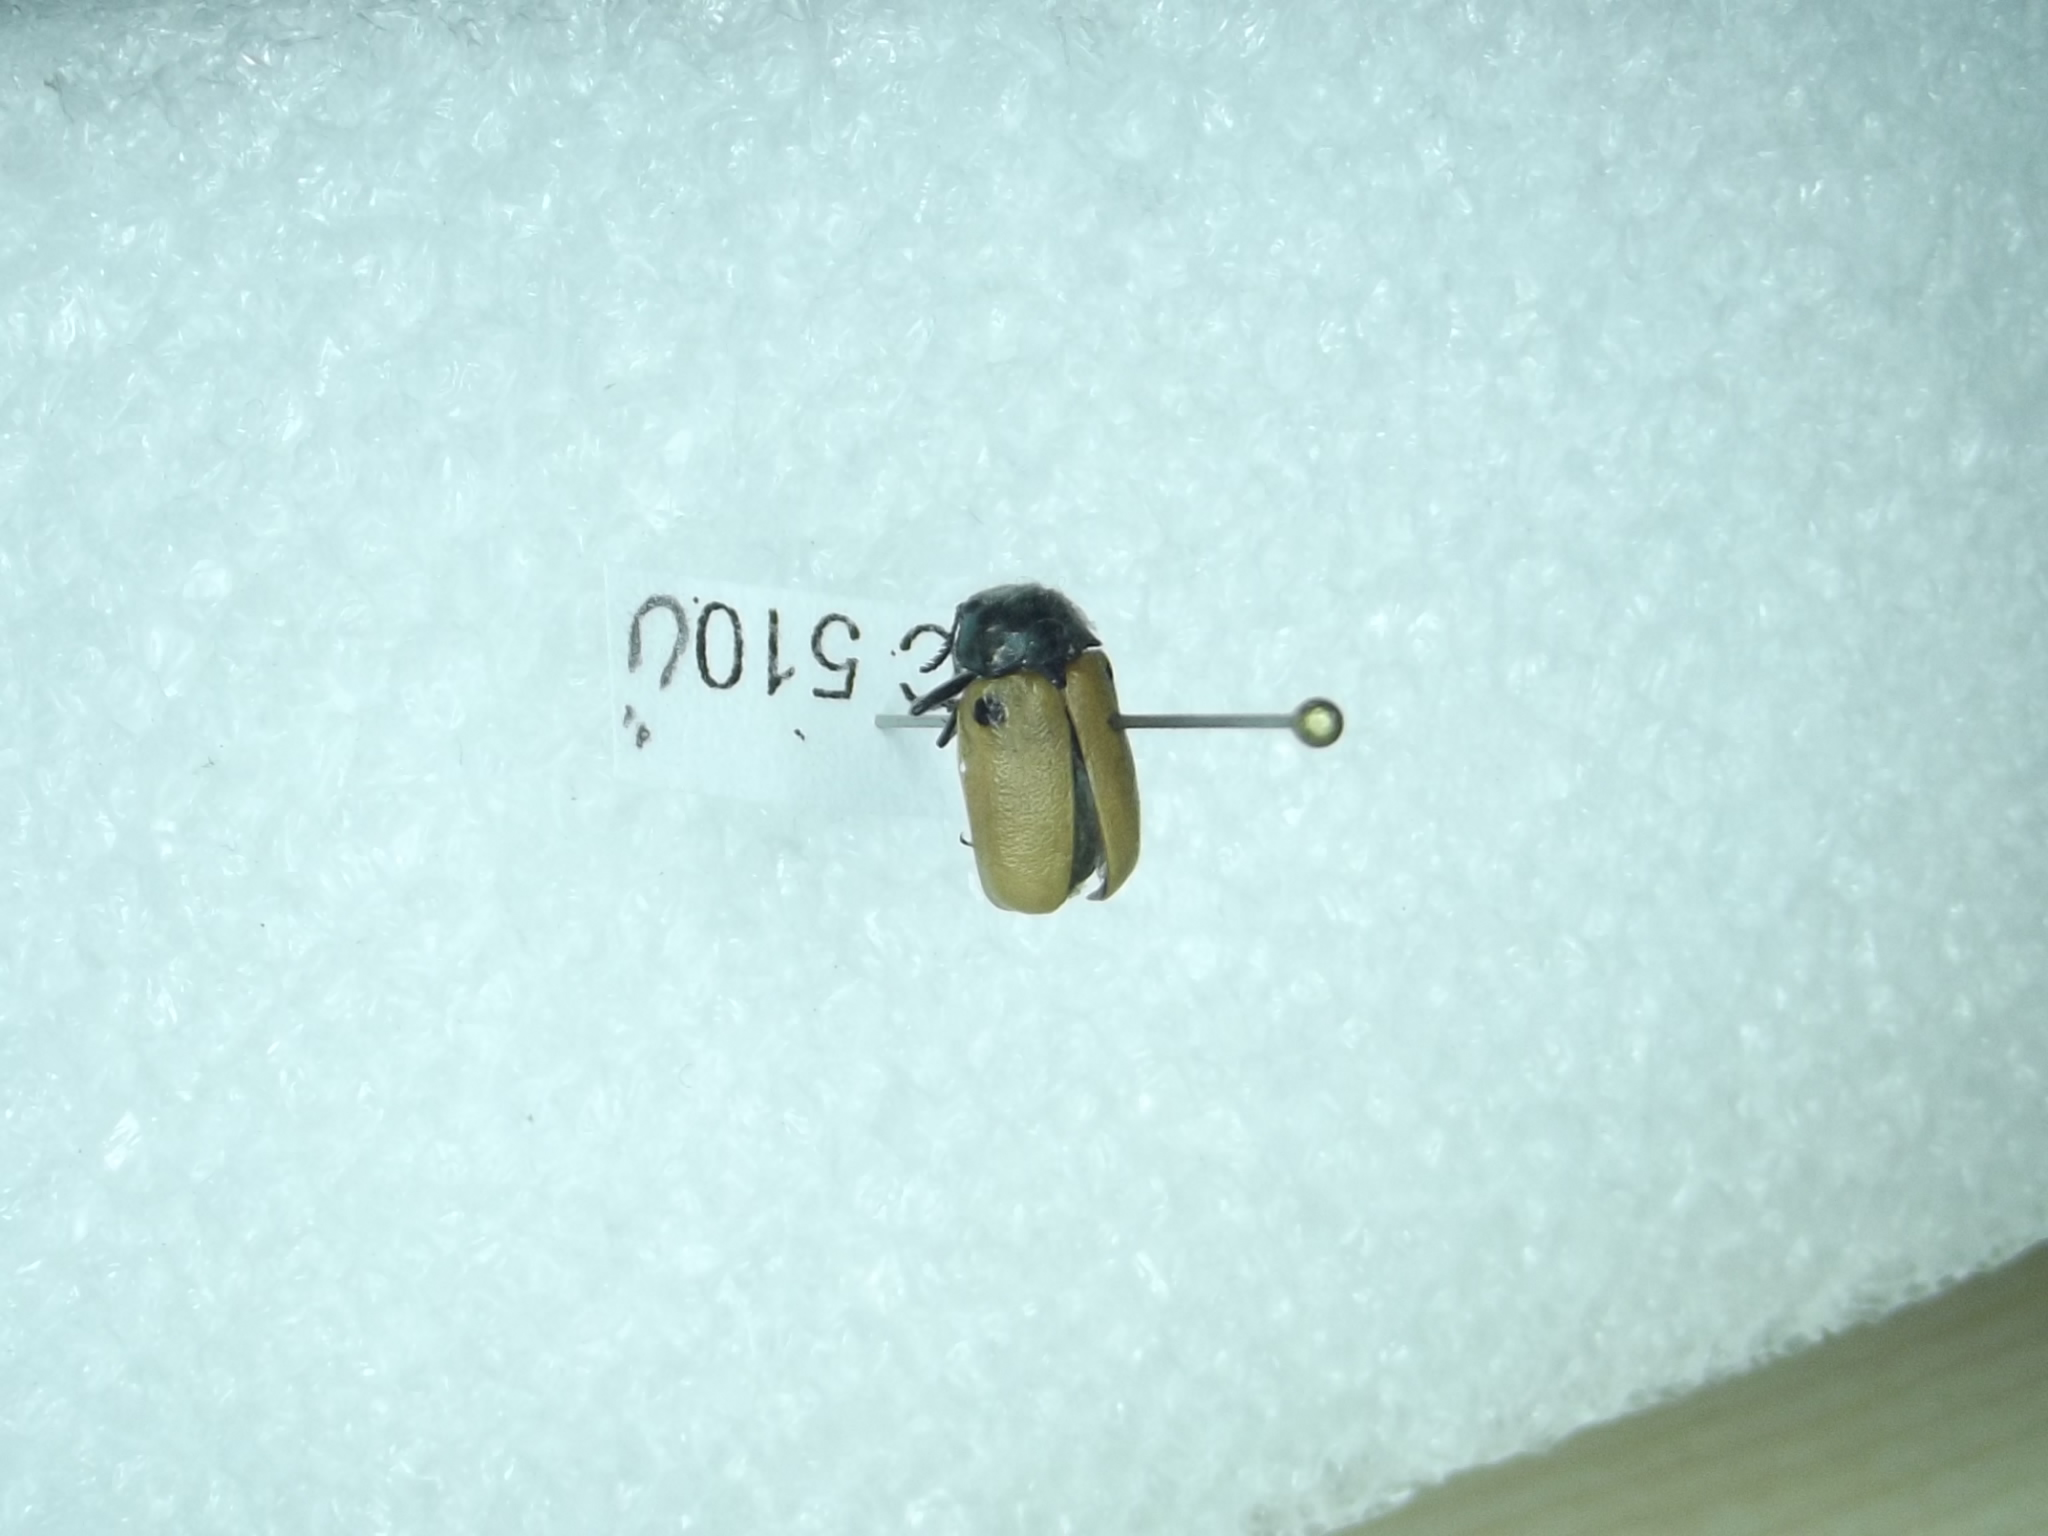Labidostomis_longimana: (943, 574, 1158, 925)
